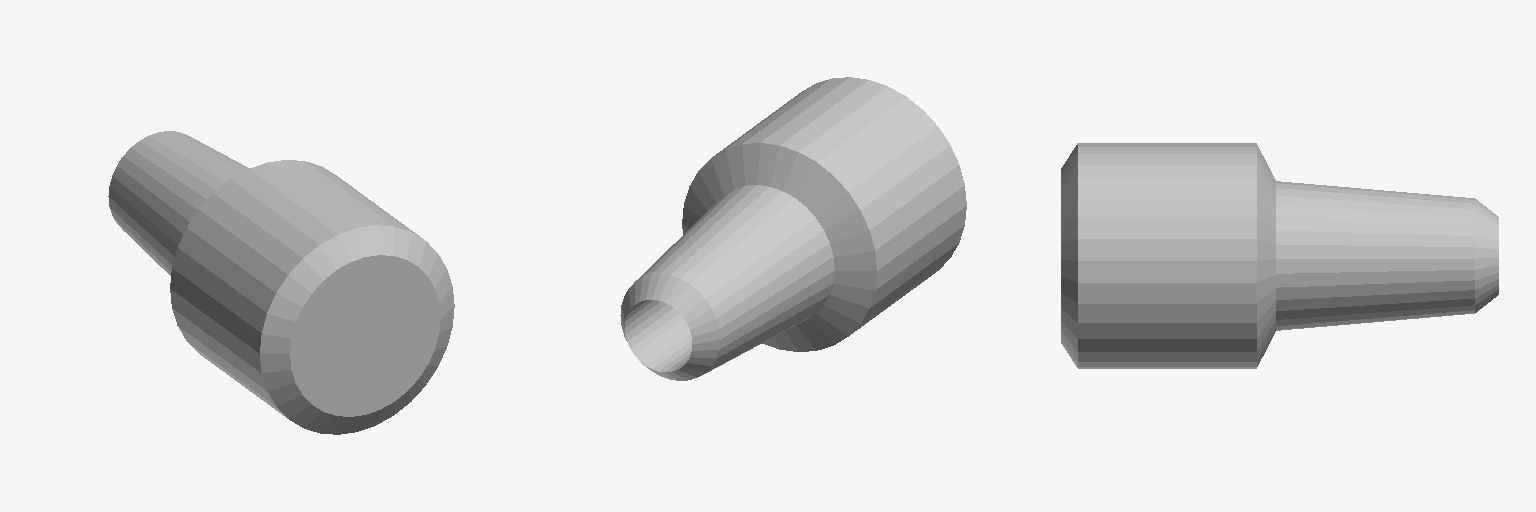
File: canhao.obj
The picture shows the model from 3 angles: view 1: azimuth 30°, elevation 25°; view 2: azimuth 150°, elevation 25°; view 3: azimuth 270°, elevation 25°; orthographic projection.
Parts seen in each view (by area): view 1: Cylinder, Cylinder.001; view 2: Cylinder, Cylinder.001; view 3: Cylinder, Cylinder.001.
Part boxes in pixels (bbox=[...]): Cylinder: bbox=[108, 131, 454, 434]; Cylinder.001: bbox=[214, 160, 406, 254]; Cylinder: bbox=[620, 77, 966, 380]; Cylinder.001: bbox=[727, 80, 918, 175]; Cylinder: bbox=[1061, 143, 1498, 368]; Cylinder.001: bbox=[1086, 143, 1256, 197].
Size of the model in its own units: 2 by 2 by 3.88.